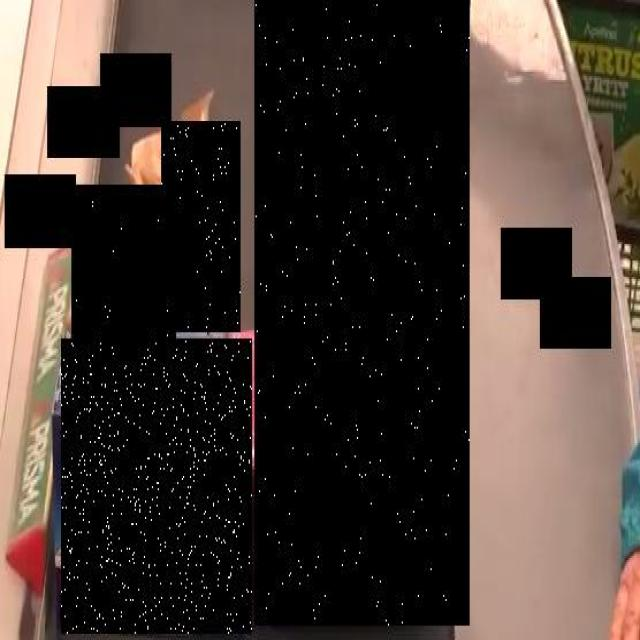food-box: (256, 0, 470, 626), (61, 338, 252, 634), (162, 123, 241, 336), (71, 185, 176, 344)
